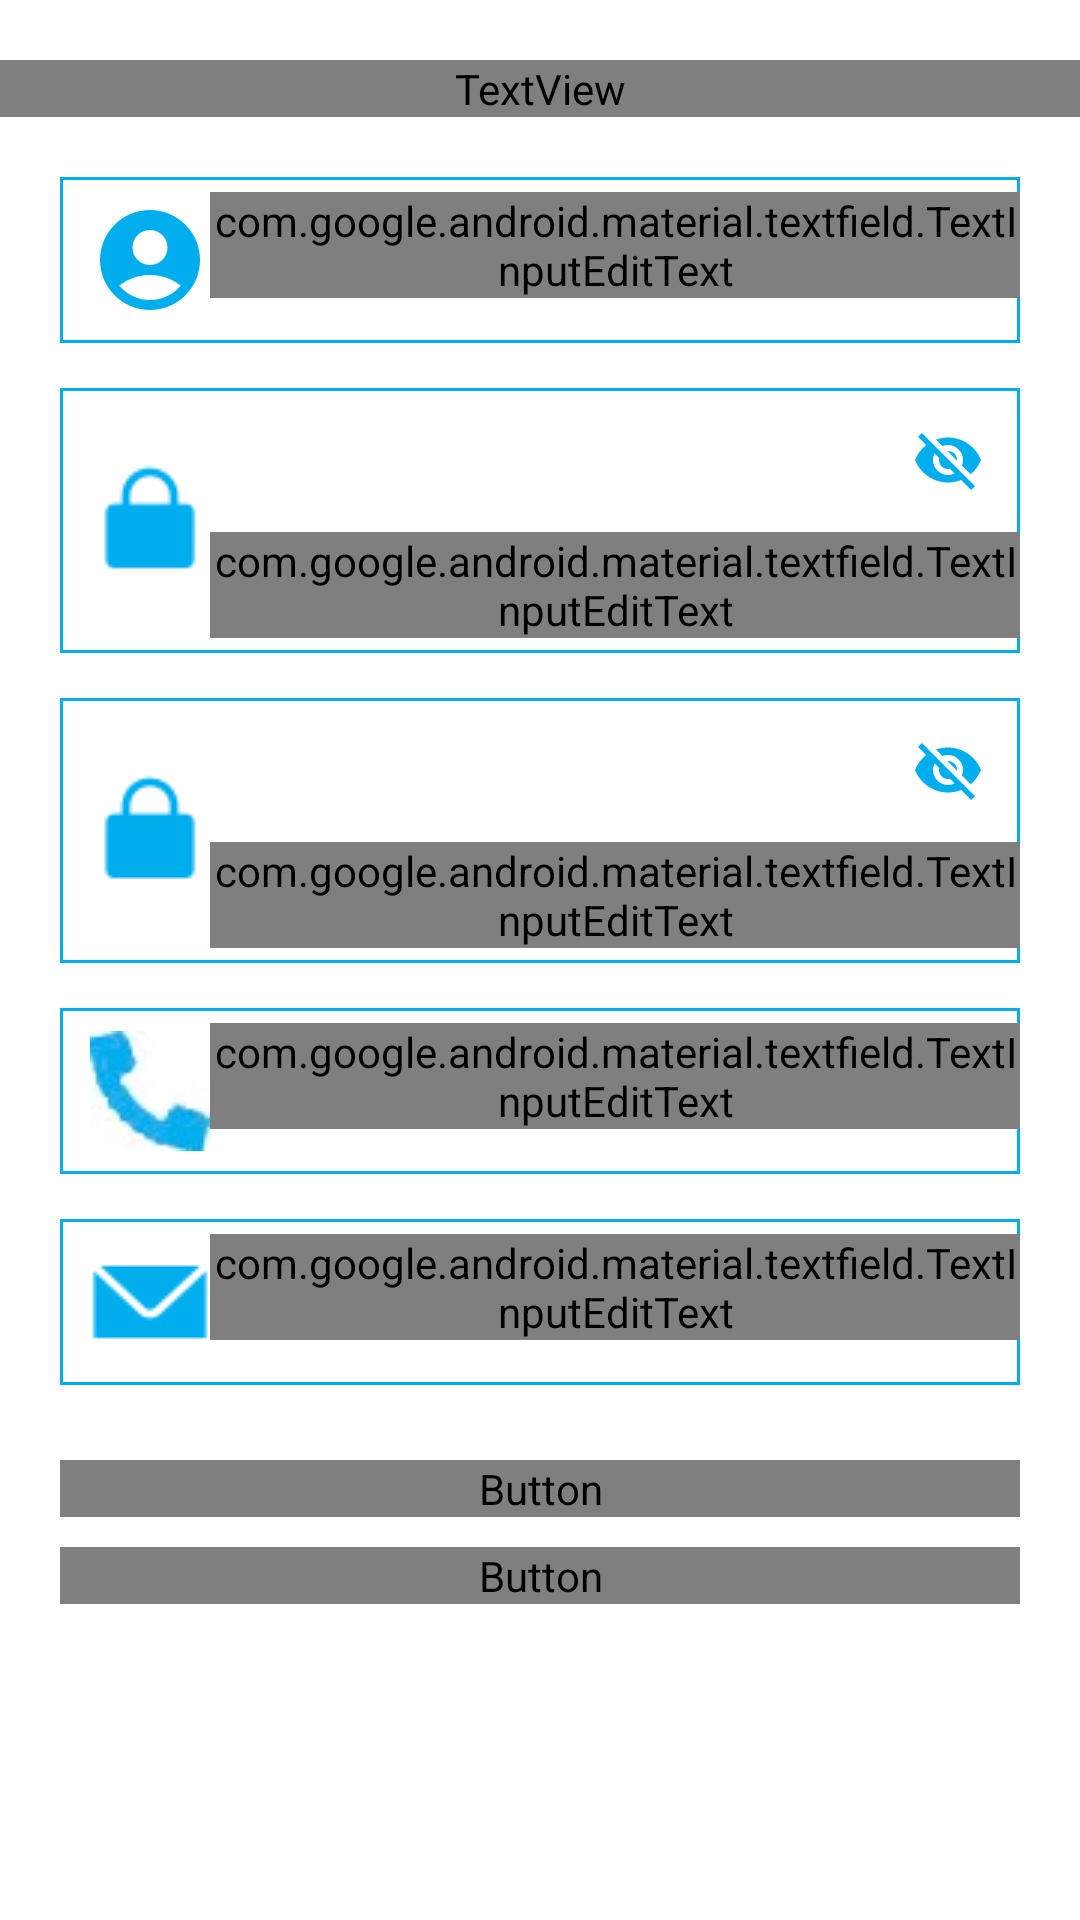

Named icons in this screenshot (1080 × 1920) and their bounding boxes, (x1,y1,x2,y2):
account: (100,210,200,310)
lock: (104,466,196,569), (104,776,196,879)
phone: (90,1031,210,1151)
